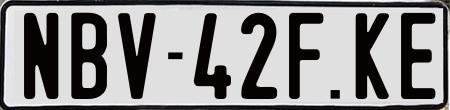2: (240, 10, 276, 100)
4: (191, 11, 228, 102)
B: (70, 11, 108, 99)
E: (399, 11, 435, 102)
F: (289, 12, 325, 99)
K: (355, 10, 393, 102)
N: (22, 11, 60, 98)
V: (117, 13, 160, 102)
